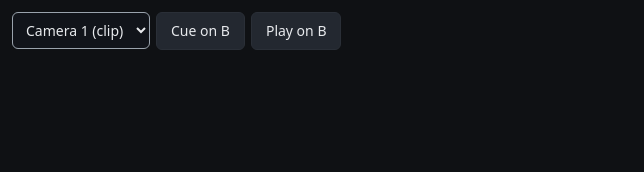
Scenario: cueing a clip on player B › cues from the clip's camera and says it is in preview
The image size is (644, 172).
Click the button with aria-label "Cue Goal on B". click: (200, 31)
box: [156,12,245,50]
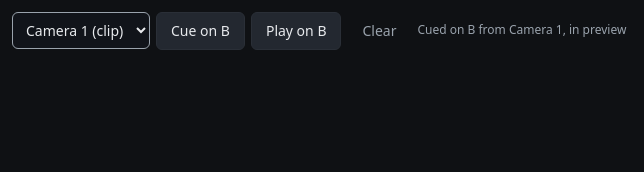
expect the text "Cued on B from Camera 1, in preview" is shown: met, box [418,22,626,39]
